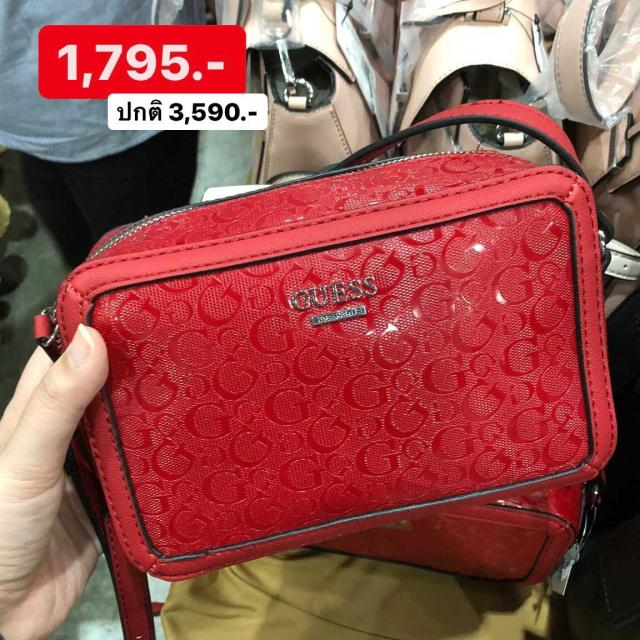Handbag: (56, 150, 617, 580)
